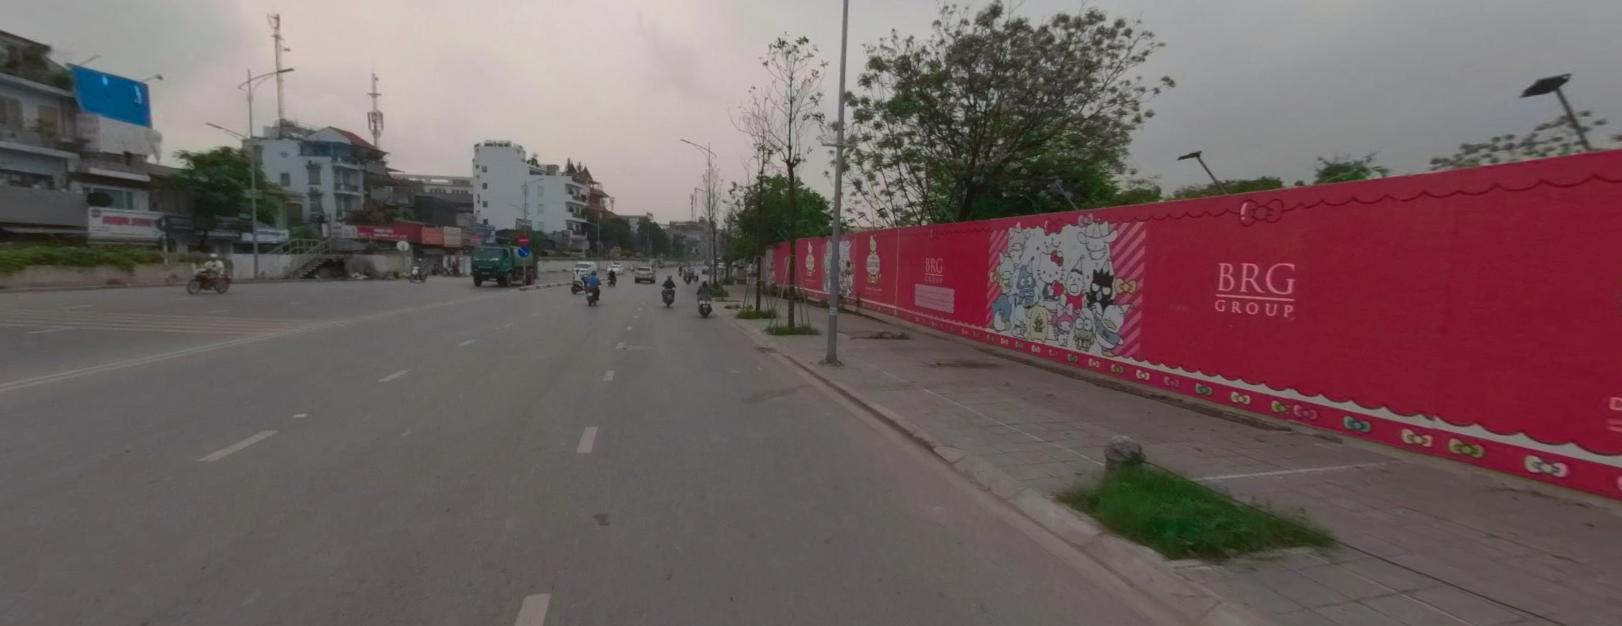Cam nguoc chieu: (517, 232, 529, 242)
Hieu lenh: (516, 243, 529, 255)
